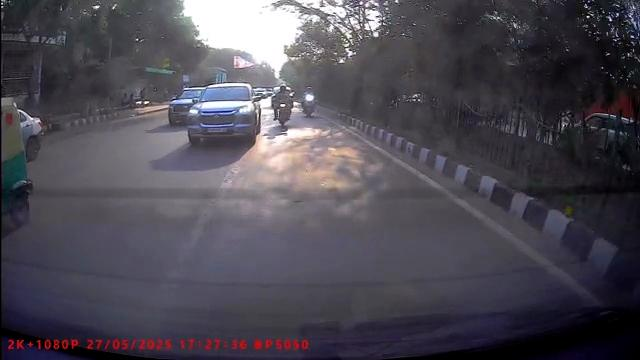motorcycle_with_helmet: (272, 86, 295, 126)
